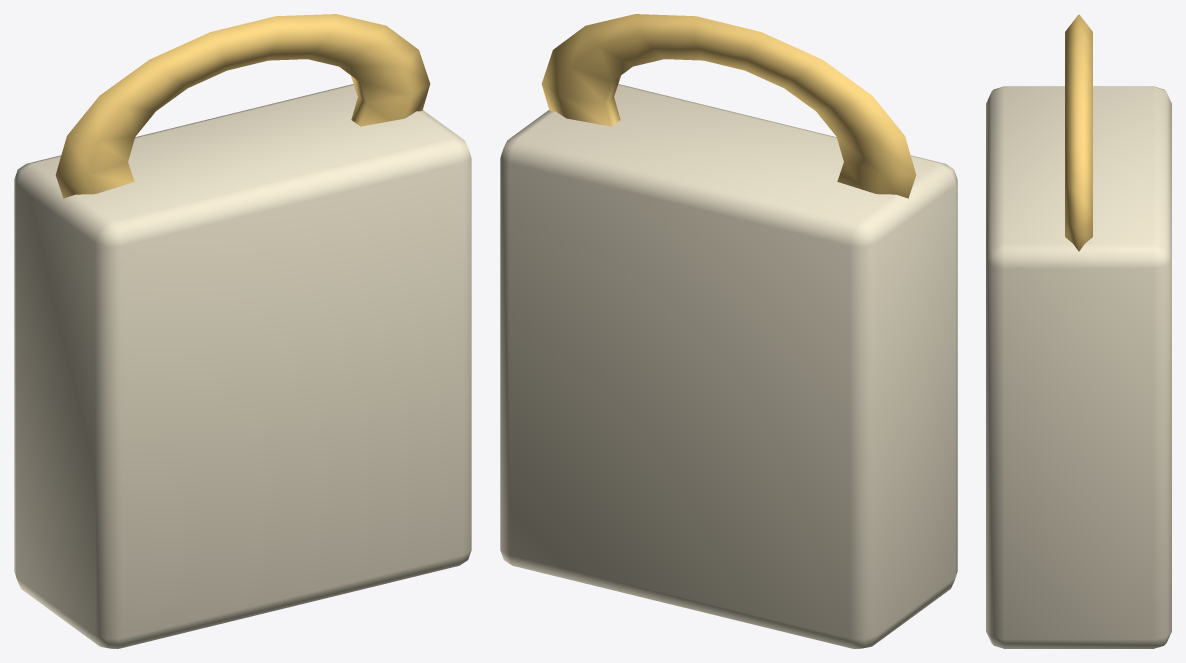
File: FestivalMerchBag.fbx
3 renders of one model, left to right at view 1: azimuth 30°, elevation 25°; view 2: azimuth 150°, elevation 25°; view 3: azimuth 270°, elevation 25°, orthographic. The views are drawn at different scales.
Visible parts, largest first — view 1: FestivalMerchBag Cream__Cream, FestivalMerchBag Gold__Gold; view 2: FestivalMerchBag Cream__Cream, FestivalMerchBag Gold__Gold; view 3: FestivalMerchBag Cream__Cream, FestivalMerchBag Gold__Gold.
Boxes of the visible parts, x1=… form: FestivalMerchBag Cream__Cream: x1=14, y1=84, x2=471, y2=648; FestivalMerchBag Gold__Gold: x1=55, y1=14, x2=430, y2=198; FestivalMerchBag Cream__Cream: x1=500, y1=84, x2=957, y2=648; FestivalMerchBag Gold__Gold: x1=541, y1=14, x2=916, y2=198; FestivalMerchBag Cream__Cream: x1=986, y1=86, x2=1171, y2=648; FestivalMerchBag Gold__Gold: x1=1065, y1=14, x2=1092, y2=251.
Bounding box in the file's own units: 55 × 77.77 × 25.
